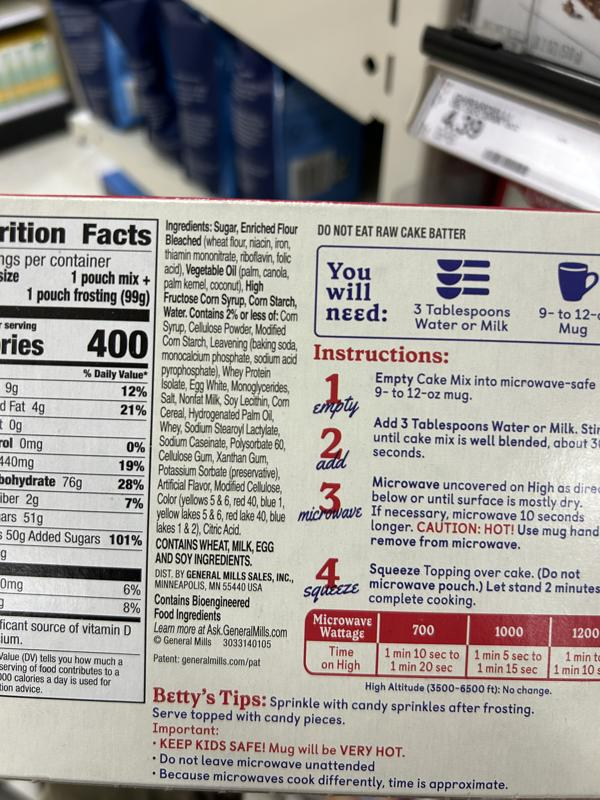ingredients: (153, 218, 301, 537)
